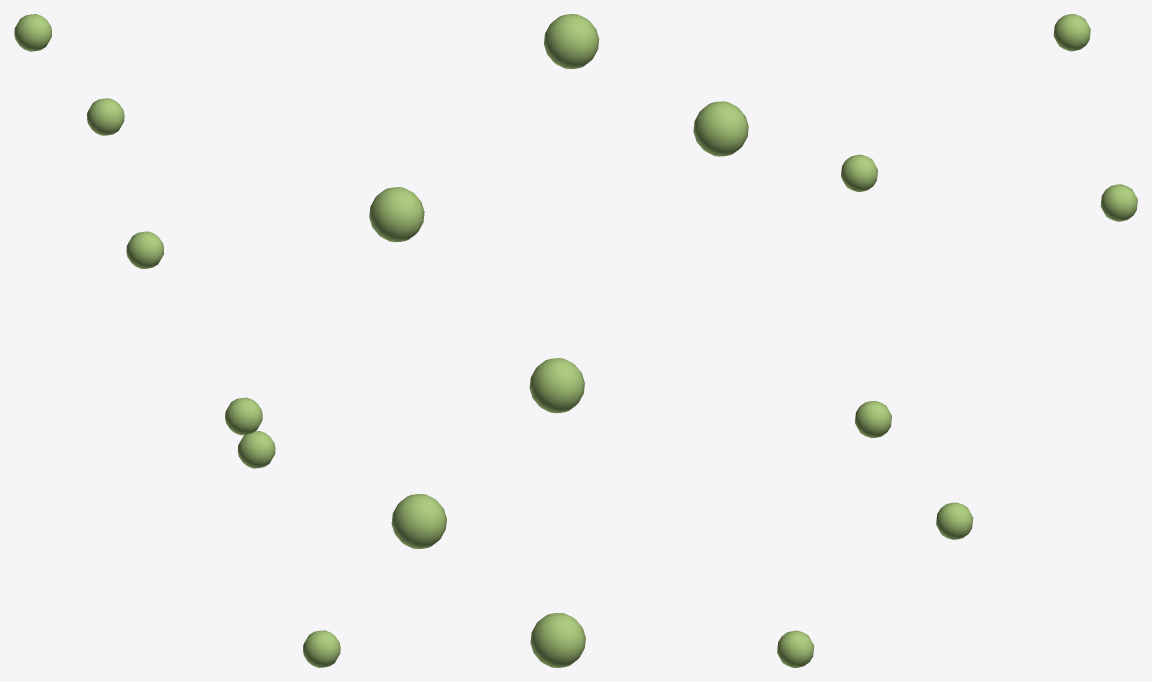
The model's file is anterior-axillary-nodes-l.glb.
The picture shows the model from 3 angles, left to right: view 1: azimuth 30°, elevation 25°; view 2: azimuth 150°, elevation 25°; view 3: azimuth 270°, elevation 25°; orthographic projection. The views are drawn at different scales.
Visible parts, largest first — view 1: Anterior axillary nodes.l; view 2: Anterior axillary nodes.l; view 3: Anterior axillary nodes.l.
Part boxes in pixels (<box>): Anterior axillary nodes.l: <box>14,14,340,667</box>; Anterior axillary nodes.l: <box>369,14,748,667</box>; Anterior axillary nodes.l: <box>777,14,1137,667</box>.
Size of the model in its own units: 0.0155 by 0.0438 by 0.0248.
